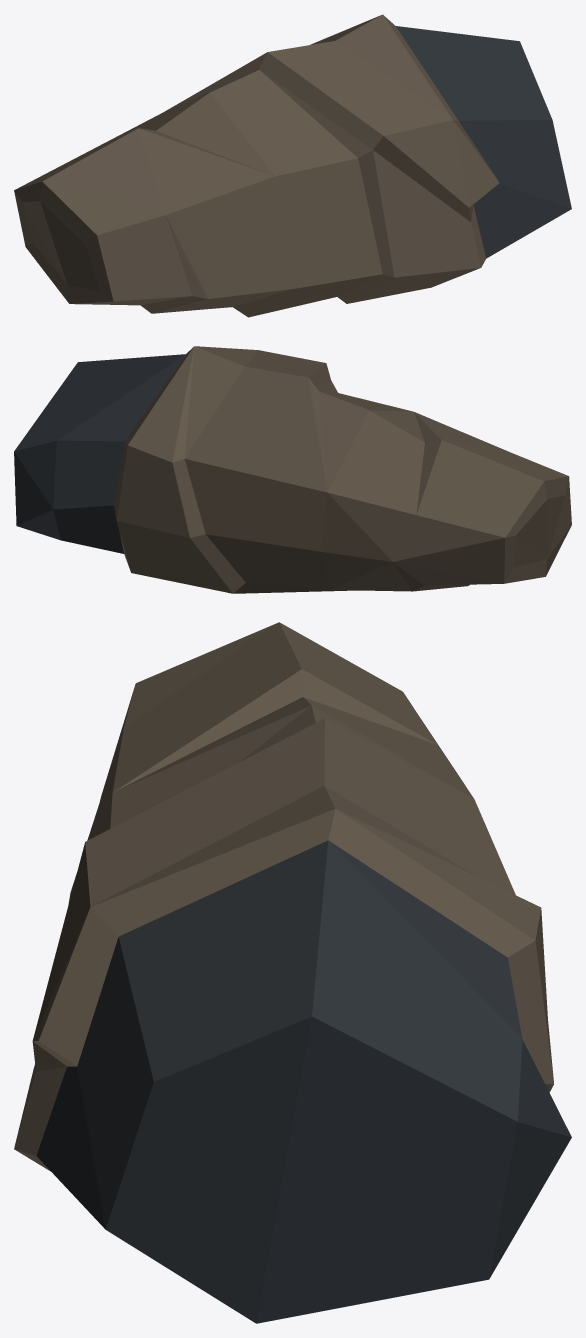
Rendered from Chr_ArmLowerRight_Male_03_Static.fbx.
The picture shows the model from 3 angles, top to bottom: view 1: azimuth 30°, elevation 25°; view 2: azimuth 150°, elevation 25°; view 3: azimuth 270°, elevation 25°; orthographic projection. The views are drawn at different scales.
Visible parts, largest first — view 1: Chr_ArmLowerRight_Male_03_Static; view 2: Chr_ArmLowerRight_Male_03_Static; view 3: Chr_ArmLowerRight_Male_03_Static.
Part boxes in pixels (x1,y1,x2,y2): Chr_ArmLowerRight_Male_03_Static: (14,14,571,317); Chr_ArmLowerRight_Male_03_Static: (14,346,571,593); Chr_ArmLowerRight_Male_03_Static: (14,622,571,1323).
Size of the model in its own units: 0.2909 by 0.1442 by 0.1575.
